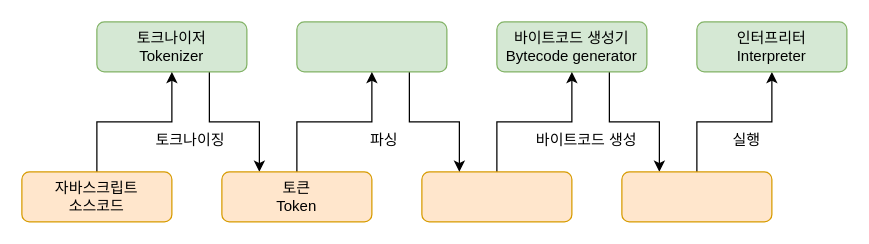
This 869x244 diagram has some shape labels left out. Here are the shapes that lost their labels. From the top down, the centre of each, then its label:
point 371,46: 파서 Parser
point 496,196: AST Abstract Syntax Tree
point 696,196: 바이트 코드 Bytecode
